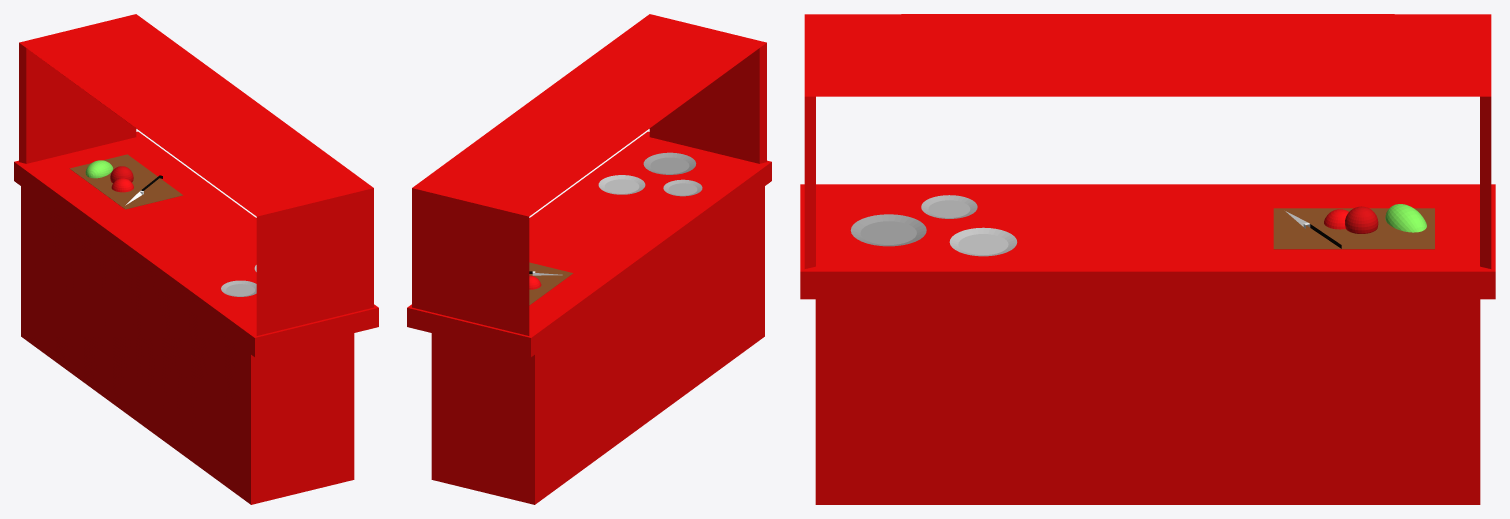
File: chefStation.obj
3 views of the same model, side by side, from view 1: azimuth 30°, elevation 25°; view 2: azimuth 150°, elevation 25°; view 3: azimuth 270°, elevation 25° (orthographic). The views are drawn at different scales.
Visible parts, largest first — view 1: KitchenCounter.002_Cube.035; view 2: KitchenCounter.002_Cube.035; view 3: KitchenCounter.002_Cube.035.
Part boxes in pixels (bbox=[...]): KitchenCounter.002_Cube.035: bbox=[14, 14, 378, 504]; KitchenCounter.002_Cube.035: bbox=[407, 14, 771, 504]; KitchenCounter.002_Cube.035: bbox=[800, 14, 1495, 504].
Bounding box in the file's own units: 0.3111 × 0.6967 × 1.05.
